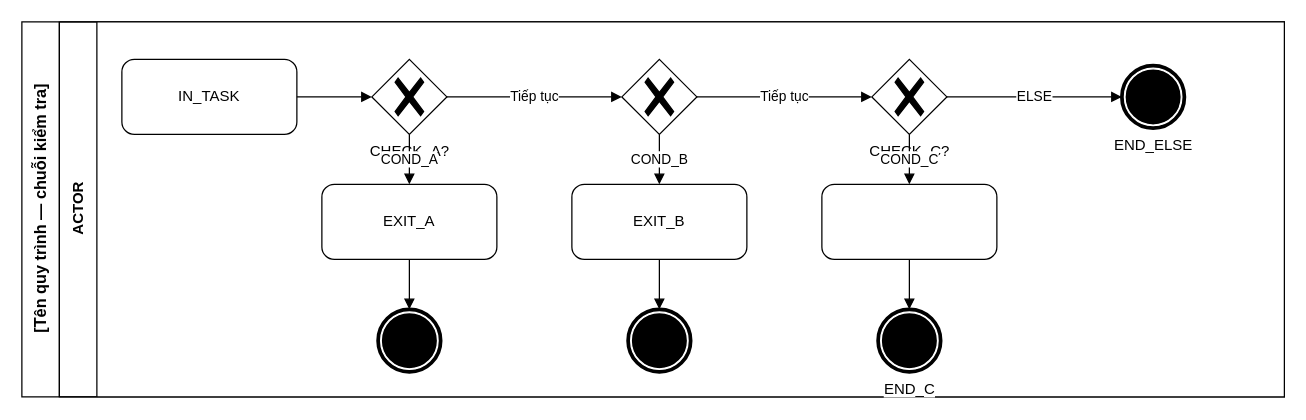
The diagram is 1306 pixels wide and 420 high, and some of its shapes have lost their labels. The shapes that lost their labels are listed below. From the top down, each one's centre as x and y in pixels, then its label:
At [659,96]: "CHECK_B?".
At [909,221]: "EXIT_C".
At [409,340]: "END_A".
At [659,340]: "END_B".
